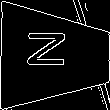N_E: (32, 35, 79, 77)
